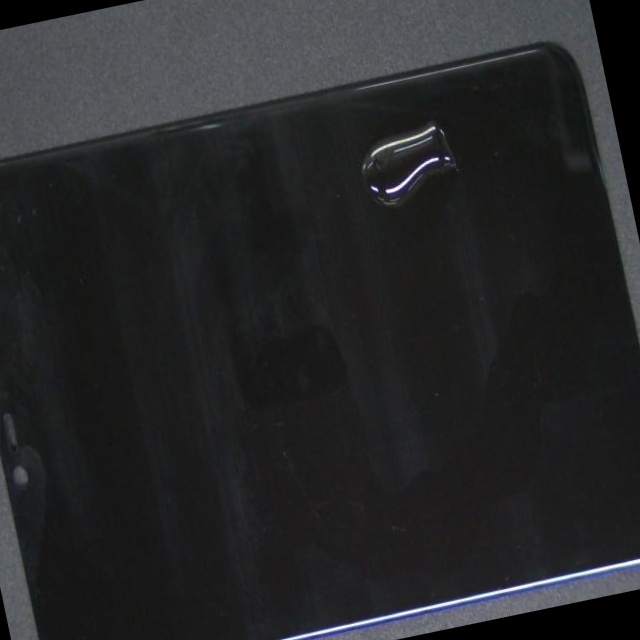oil: (192, 28, 630, 280)
